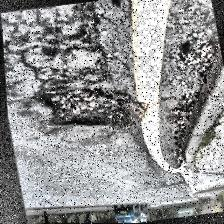pothole: (30, 74, 154, 144)
